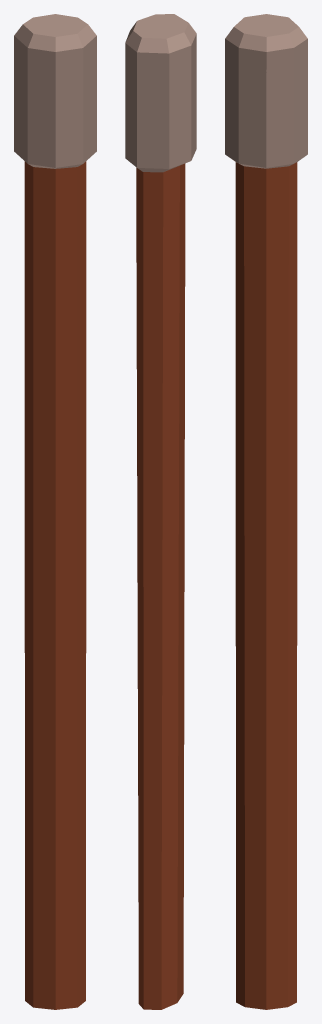
The model's file is tool_base.fbx.
The picture shows the model from 3 angles, left to right: view 1: azimuth 90°, elevation 25°; view 2: azimuth 150°, elevation 25°; view 3: azimuth 270°, elevation 25°; orthographic projection.
Parts seen in each view (by area): view 1: tool_base; view 2: tool_base; view 3: tool_base.
Part boxes in pixels (box(x1,y1,x2,y2)): tool_base: box(14, 14, 96, 1009); tool_base: box(125, 14, 196, 1009); tool_base: box(225, 14, 307, 1009).
Size of the model in its own units: 27.52 by 417 by 32.08.
